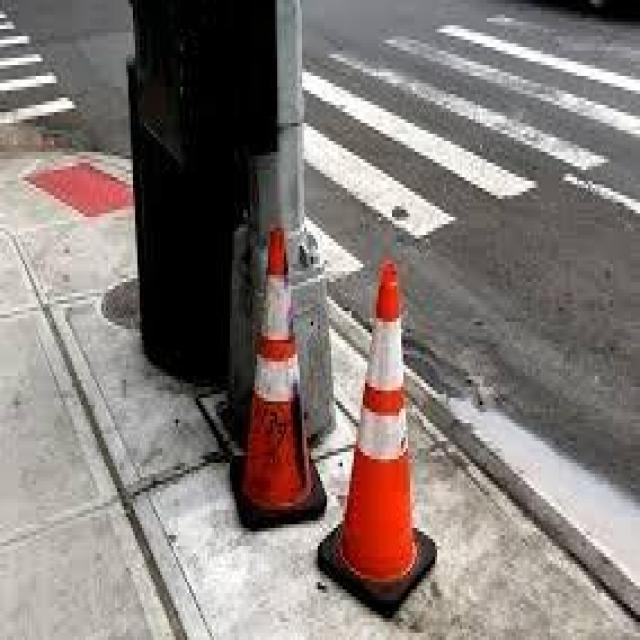Cone: (316, 256, 438, 620), (228, 225, 328, 530)
